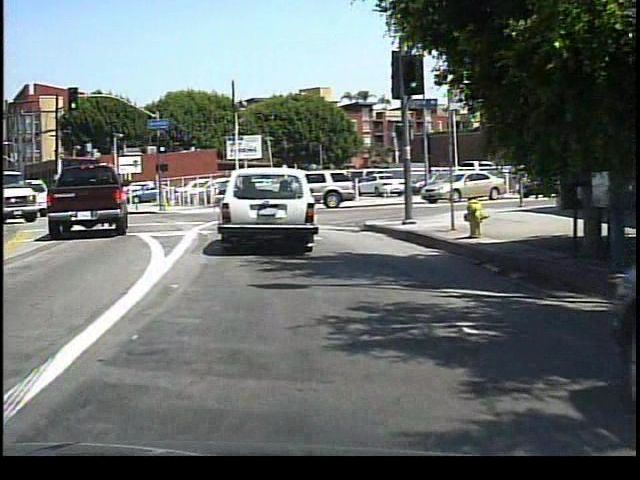person: (401, 164, 419, 203)
